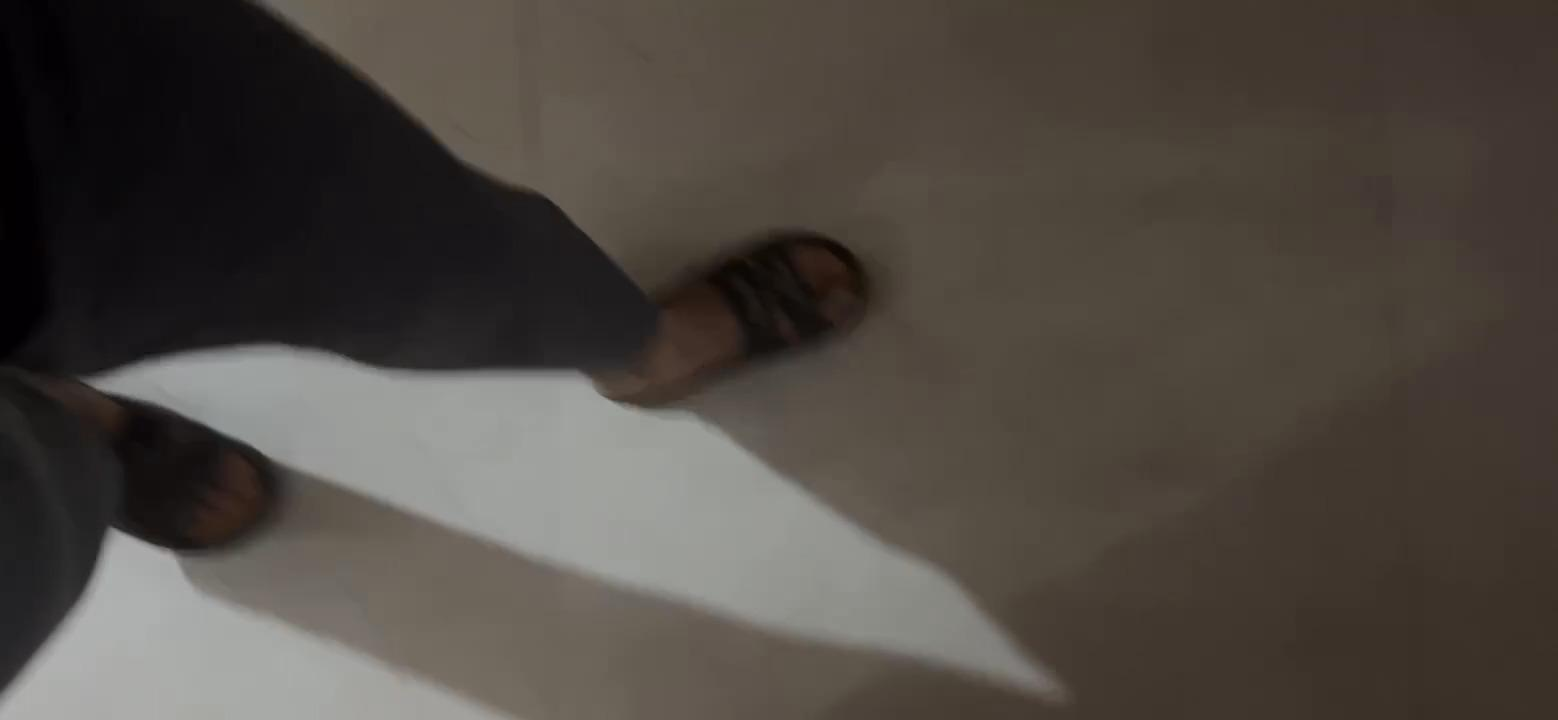no-boot: (623, 219, 880, 411)
